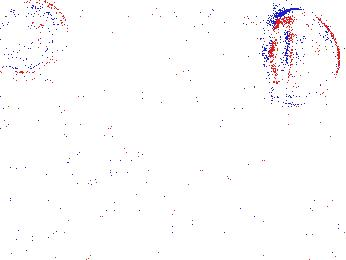moon jellyfish: (265, 9, 341, 105), (1, 1, 69, 82), (135, 53, 210, 124), (167, 10, 252, 54), (1, 76, 58, 120)
